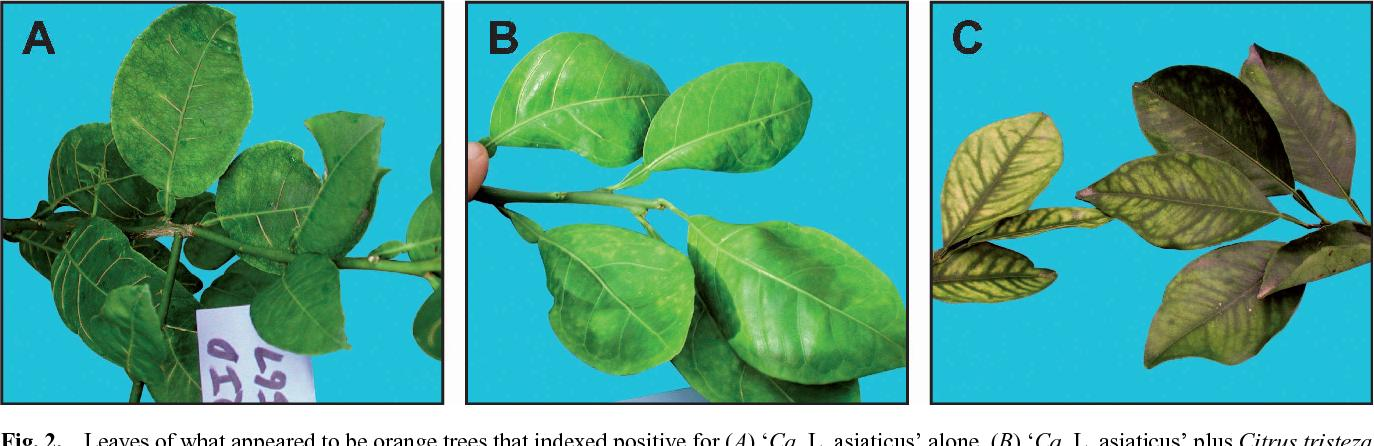Citrus Greening: (511, 216, 706, 381), (699, 225, 899, 384), (1147, 242, 1328, 368), (1128, 57, 1285, 195), (637, 65, 815, 177), (1085, 141, 1268, 245), (1248, 33, 1359, 200), (488, 49, 664, 144), (940, 108, 1057, 249), (933, 246, 1055, 304)
